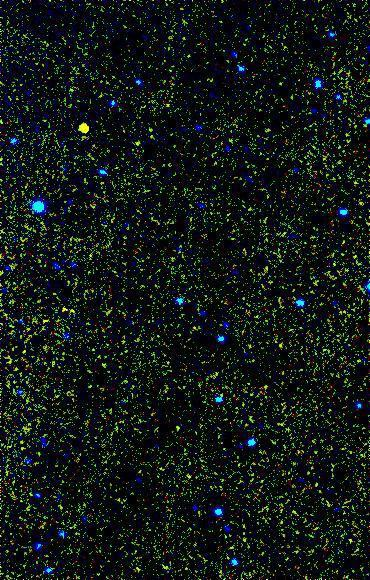star: (69, 113, 99, 143)
